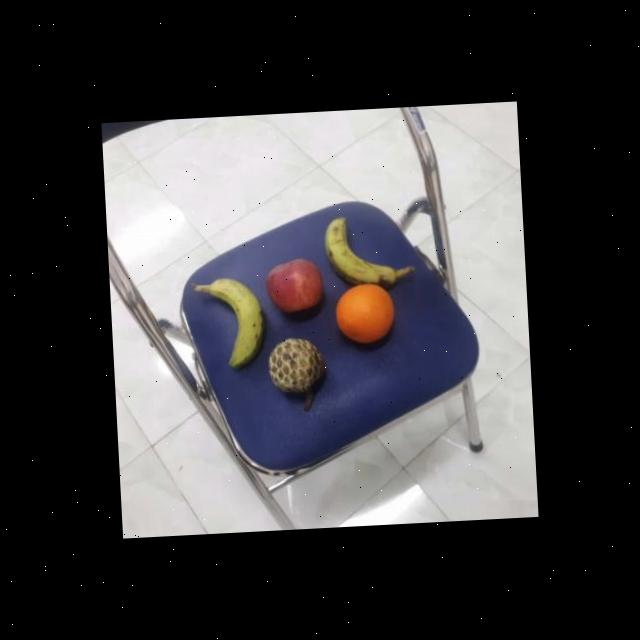Sakya fruit: (265, 336, 327, 397)
apple: (264, 256, 324, 315)
banana: (320, 208, 402, 290), (200, 276, 270, 368)
orange: (336, 280, 400, 347)
